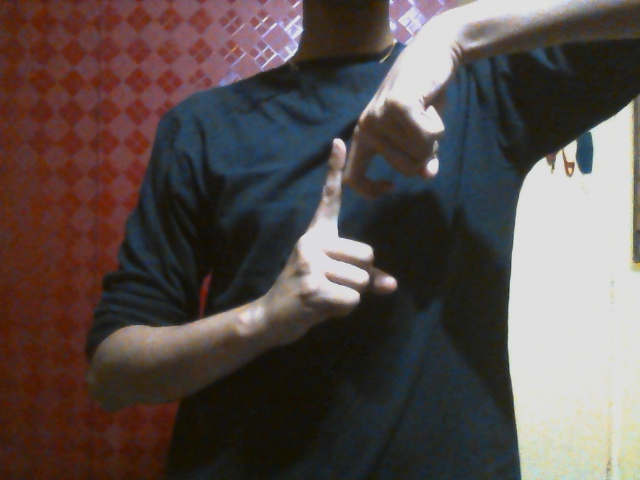K: (266, 100, 444, 346)
